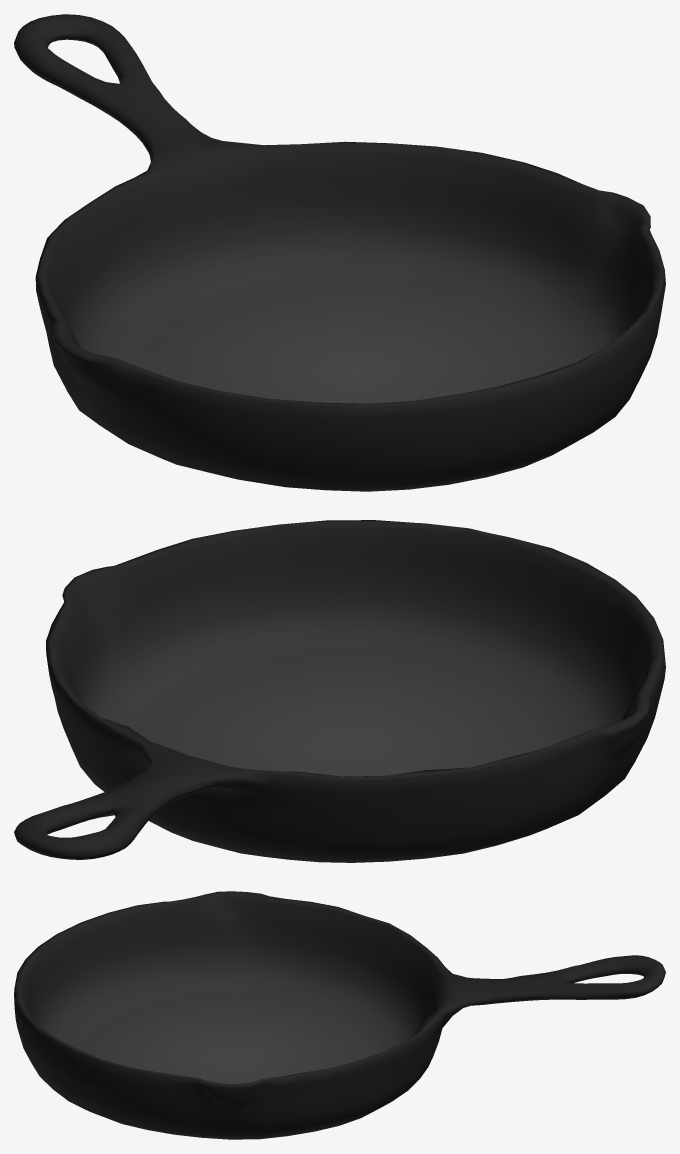
File: kitchen2.glb
3 views of the same model, one above another, from view 1: azimuth 30°, elevation 25°; view 2: azimuth 150°, elevation 25°; view 3: azimuth 270°, elevation 25° (orthographic). The views are drawn at different scales.
Visible parts, largest first — view 1: node_id60; view 2: node_id60; view 3: node_id60.
Boxes of the visible parts, x1=… form: node_id60: x1=14, y1=14, x2=665, y2=491; node_id60: x1=14, y1=520, x2=665, y2=862; node_id60: x1=14, y1=891, x2=665, y2=1139.
Bounding box in the file's own units: 0.512 × 0.1216 × 0.7205.
1 material, 1 textured.
